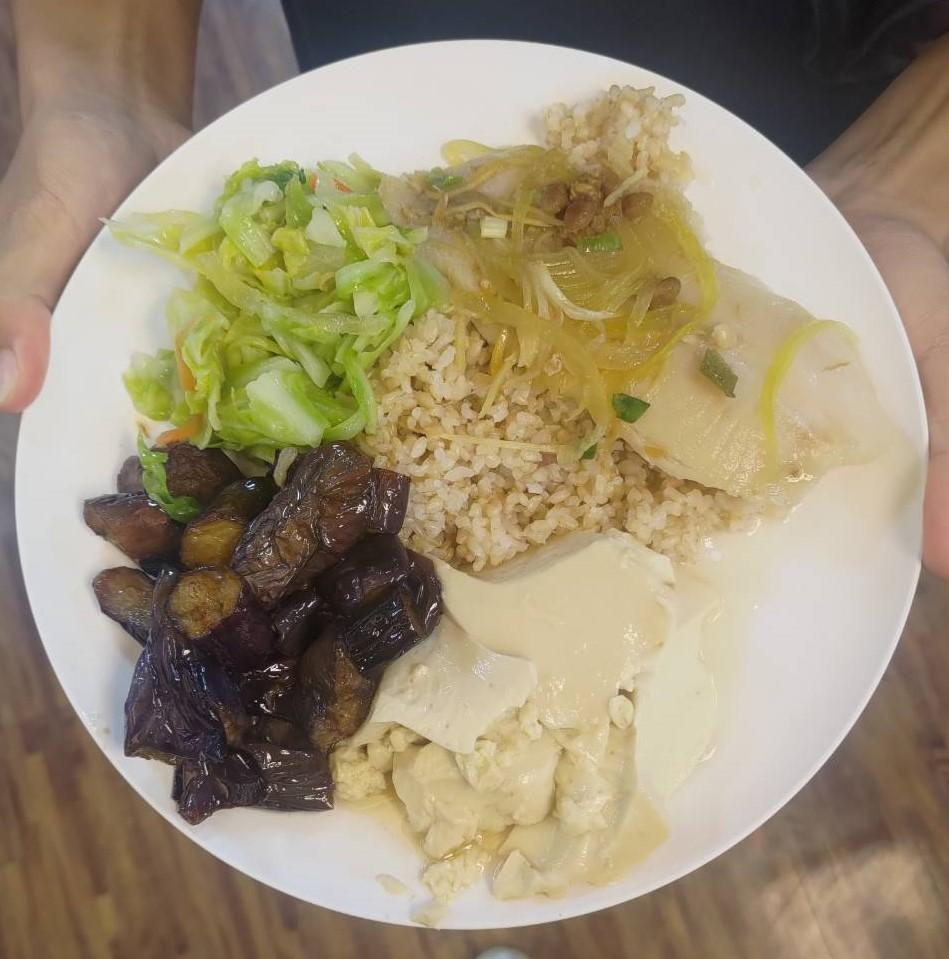big fried chicken leg: (20, 20, 933, 936)
box: (359, 281, 750, 560)
braised fish fillet: (394, 534, 741, 896), (98, 442, 416, 816), (130, 156, 416, 448)
braised pork ribs: (427, 145, 900, 508)
